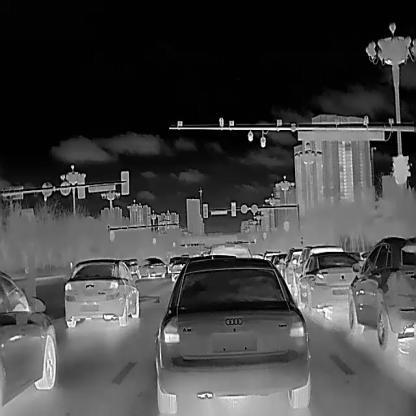car: (156, 255, 311, 411), (349, 235, 415, 351), (0, 270, 55, 408), (64, 257, 139, 327), (296, 250, 358, 315), (292, 243, 342, 295), (282, 248, 303, 283), (138, 256, 166, 277), (171, 256, 191, 280)
